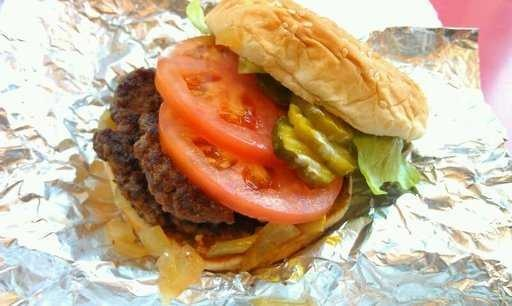hamburger: (88, 1, 439, 286)
